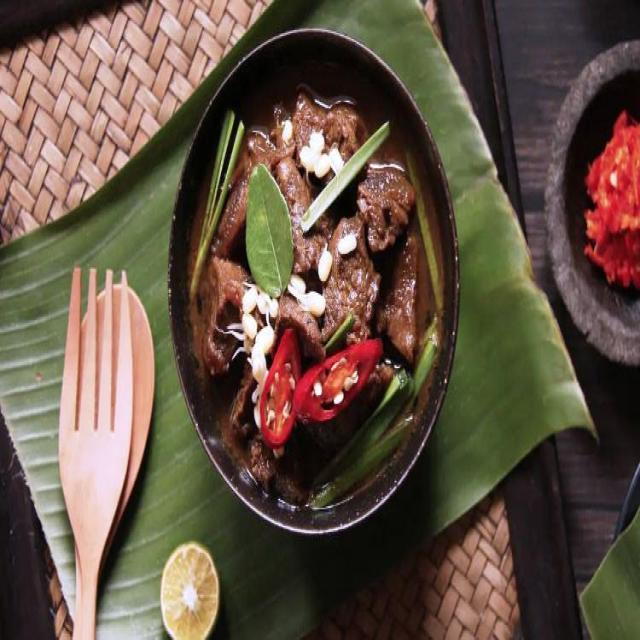Rawon: (196, 92, 432, 472)
